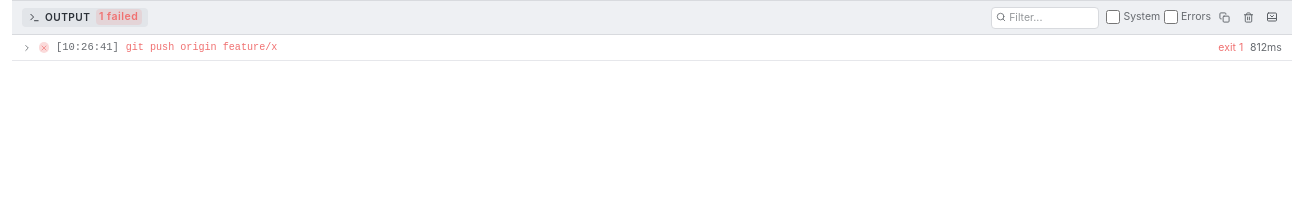
Test case: CommandLogPanel — Commands tab (raw git output) › expands an entry to show the full command, directory, stdout and stderr
Click the text "git push origin feature/x".
click(202, 47)  # box [126,42,277,53]
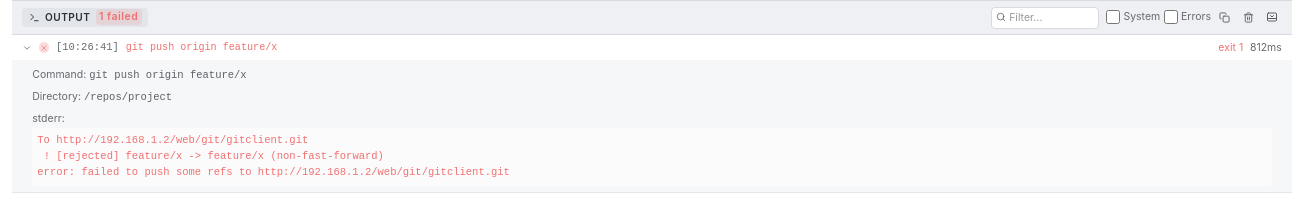
Expected: the text "/repos/project" is shown, [84,91,172,103]
Expected: the text "stderr:" is shown, [32,112,65,125]
Expected: the text "error: failed to push some refs" is shown, [37,134,510,178]
